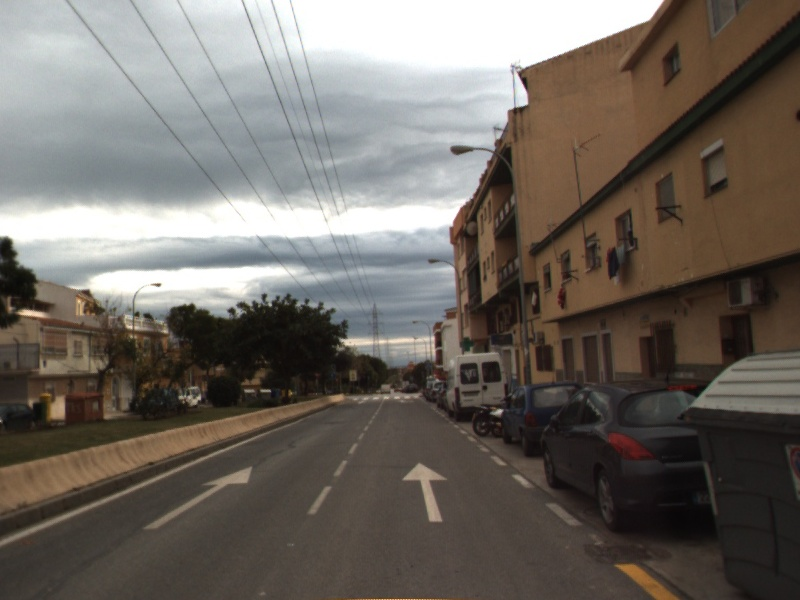STRAIGHT: (141, 465, 254, 531), (400, 460, 450, 524)
